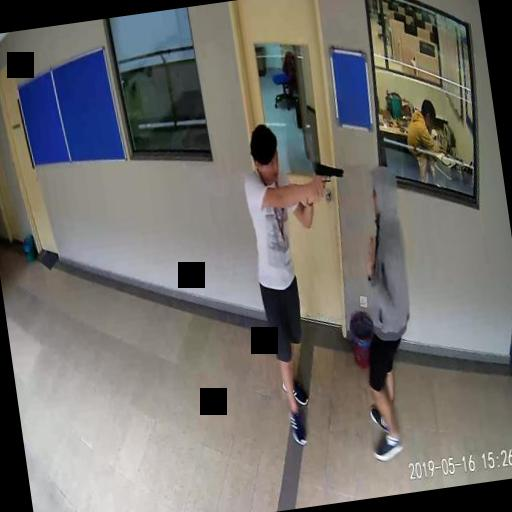Handgun: (314, 158, 346, 200)
